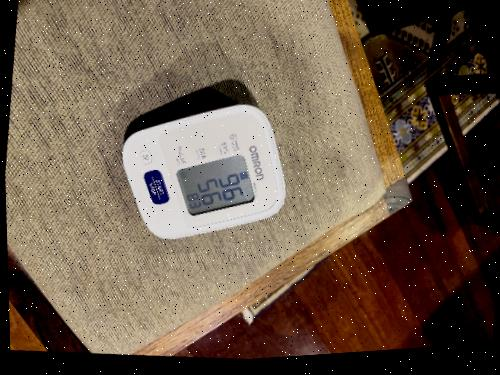bpm: (173, 151, 260, 220)
